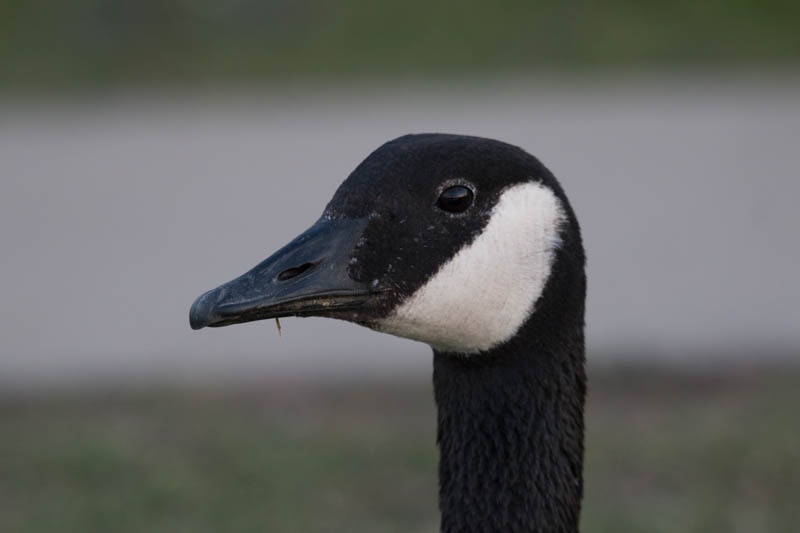goose-head: (188, 132, 587, 355)
